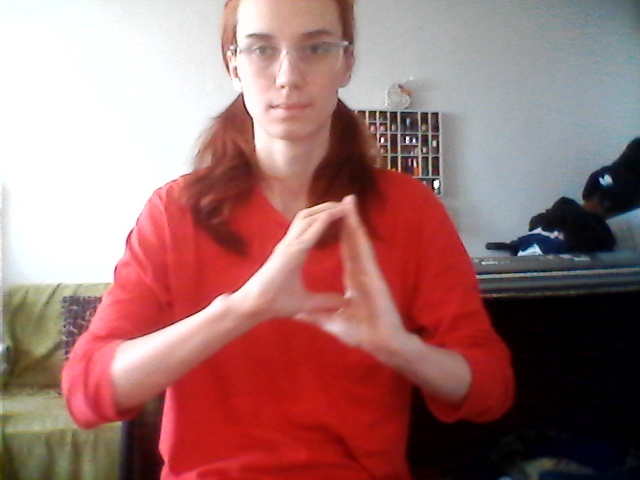d: (252, 193, 404, 366)
